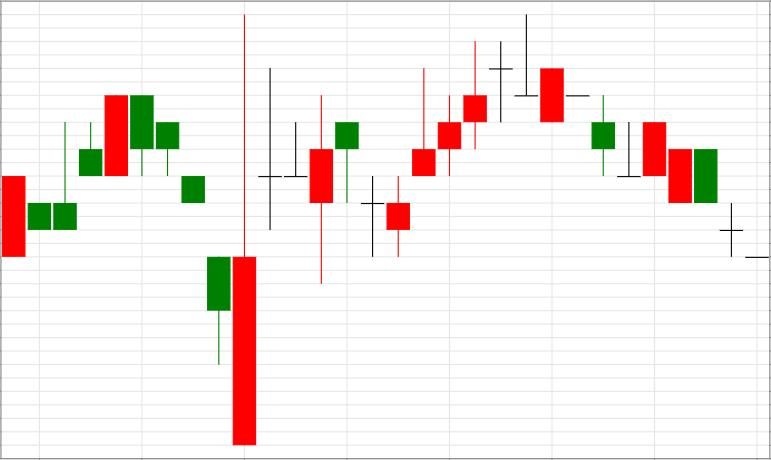bullish_engulfing_rise: (131, 14, 257, 445)
